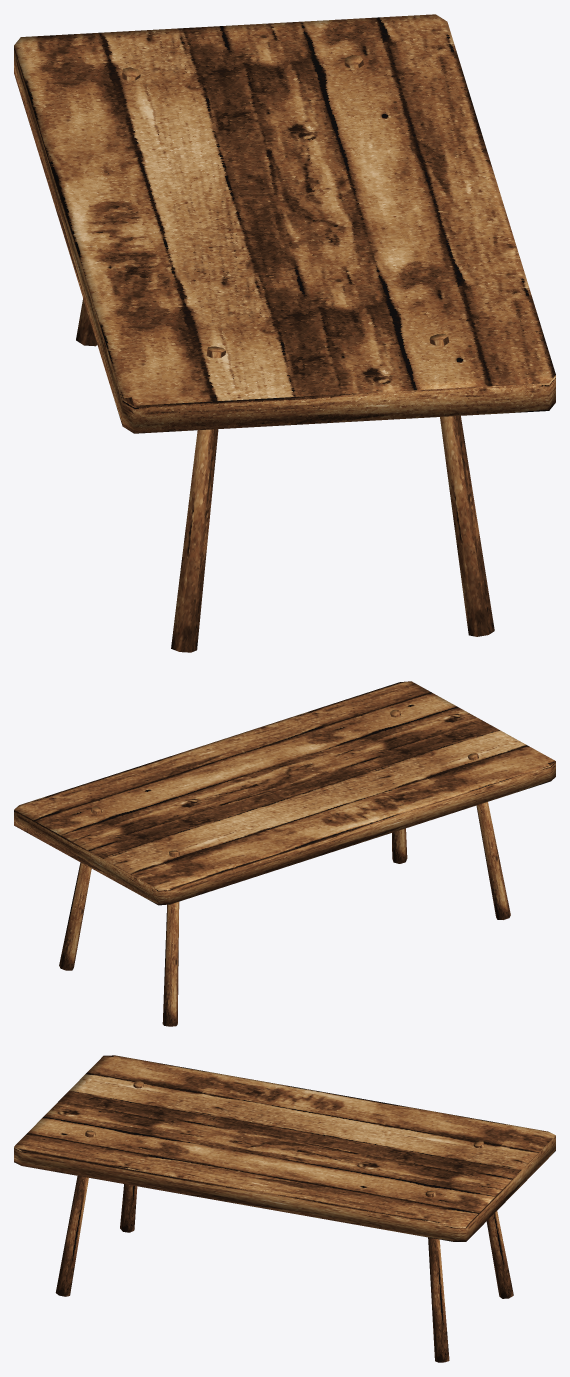
The model's file is house_table.glb.
The picture shows the model from 3 angles, top to bottom: view 1: azimuth 30°, elevation 25°; view 2: azimuth 150°, elevation 25°; view 3: azimuth 270°, elevation 25°; orthographic projection. The views are drawn at different scales.
Visible parts, largest first — view 1: dark-wall-wood.png__; view 2: dark-wall-wood.png__; view 3: dark-wall-wood.png__.
Boxes of the visible parts, <box> form: dark-wall-wood.png__: <box>14,14,555,652</box>; dark-wall-wood.png__: <box>14,681,555,1026</box>; dark-wall-wood.png__: <box>14,1055,555,1362</box>.
Bounding box in the file's own units: 6.19 × 2.67 × 8.28.
Materials: 1 (1 with a texture image).
